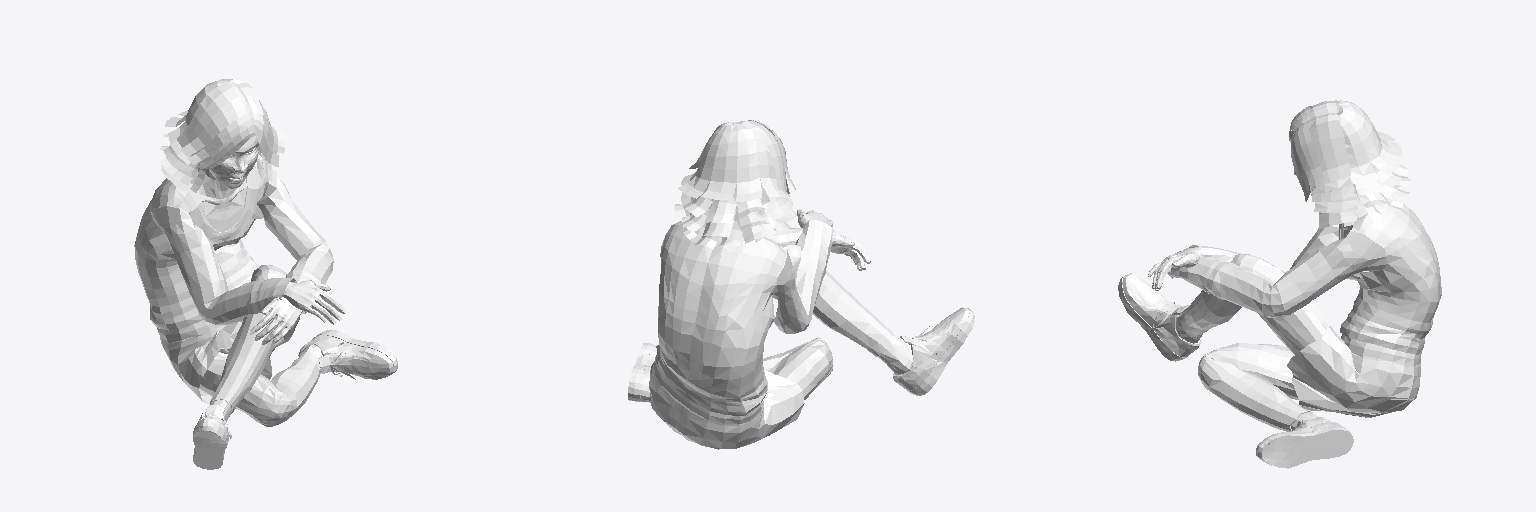
File: girlSittingGround.obj
The picture shows the model from 3 angles: view 1: azimuth 30°, elevation 25°; view 2: azimuth 150°, elevation 25°; view 3: azimuth 270°, elevation 25°; orthographic projection.
Parts seen in each view (by area): view 1: RL_Upper_2, RL_Lower_230_8, RL_HairMesh_4, RL_Shoes_6, RL_Hands_1, RL_Upper_1842_3, RL_Face_9; view 2: RL_Upper_2, RL_Lower_230_8, RL_HairMesh_4, RL_Shoes_6, RL_Hands_1, RL_Lower_7; view 3: RL_Lower_230_8, RL_Upper_2, RL_HairMesh_4, RL_Shoes_6, RL_Hands_1, RL_Lower_7.
Part boxes in pixels (x1,y1,x2,y2): RL_Upper_2: (134, 159, 333, 330); RL_Lower_230_8: (156, 265, 319, 426); RL_HairMesh_4: (160, 79, 286, 193); RL_Shoes_6: (193, 330, 397, 469); RL_Hands_1: (250, 280, 346, 344); RL_Upper_1842_3: (196, 169, 291, 297); RL_Face_9: (209, 134, 258, 188); RL_Upper_2: (656, 220, 834, 415); RL_Lower_230_8: (649, 244, 894, 449); RL_HairMesh_4: (674, 120, 796, 252); RL_Shoes_6: (628, 307, 974, 402); RL_Hands_1: (797, 209, 870, 270); RL_Lower_7: (877, 334, 912, 374); RL_Lower_230_8: (1184, 254, 1420, 431); RL_Upper_2: (1179, 196, 1441, 354); RL_HairMesh_4: (1289, 100, 1411, 229); RL_Shoes_6: (1118, 273, 1353, 468); RL_Hands_1: (1148, 248, 1200, 290); RL_Lower_7: (1176, 312, 1328, 430).
Size of the model in its own units: 70.6 by 77.5 by 74.5.